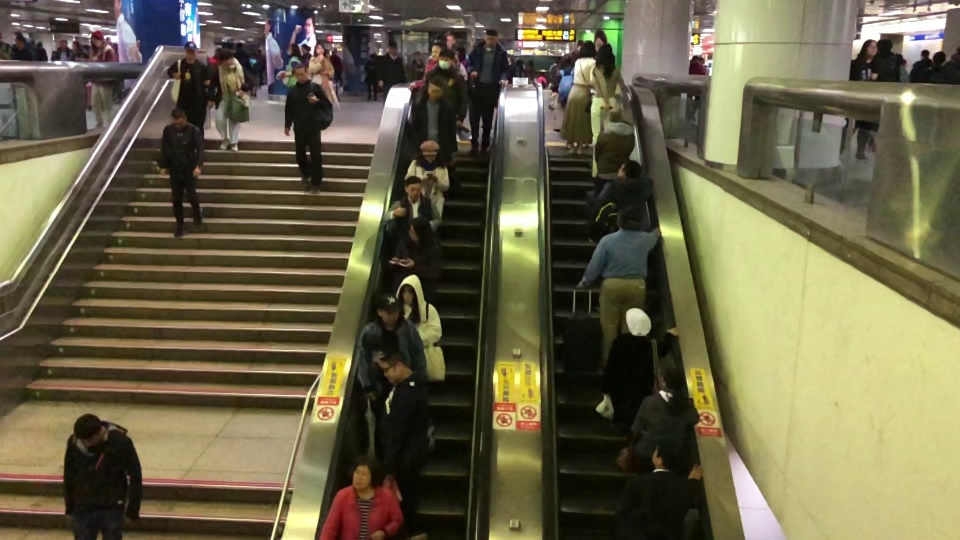person_head: (347, 454, 381, 488), (72, 413, 104, 447), (652, 437, 686, 468), (376, 351, 408, 382), (616, 204, 642, 229), (408, 216, 432, 242), (659, 367, 683, 391), (626, 314, 652, 336), (377, 304, 399, 324), (404, 176, 422, 200), (617, 160, 641, 178), (436, 48, 455, 68), (170, 108, 188, 127), (426, 78, 442, 99), (597, 43, 613, 62), (217, 48, 233, 65), (484, 27, 499, 45), (862, 38, 877, 56), (579, 40, 596, 55), (402, 283, 415, 302), (294, 65, 308, 81), (430, 41, 441, 61), (878, 38, 892, 53), (423, 144, 436, 159), (185, 44, 197, 60), (607, 110, 623, 122), (559, 54, 574, 66), (932, 51, 945, 63), (14, 37, 25, 49), (315, 43, 326, 54), (91, 35, 101, 47), (60, 39, 68, 49), (920, 49, 928, 58), (691, 54, 698, 61)
person_vbox: (576, 204, 661, 368), (63, 413, 142, 539), (601, 315, 678, 429), (617, 437, 704, 537), (318, 454, 403, 540), (355, 304, 428, 403), (631, 366, 700, 466), (375, 351, 428, 479), (156, 108, 206, 238), (284, 65, 332, 196), (466, 27, 509, 160), (589, 43, 626, 179), (838, 38, 878, 161), (208, 47, 254, 153), (590, 160, 651, 237), (401, 283, 447, 384), (167, 45, 215, 134), (559, 40, 595, 157), (390, 216, 443, 294), (411, 78, 460, 157), (593, 109, 634, 195), (404, 144, 450, 220), (424, 48, 467, 126), (384, 177, 442, 234), (87, 36, 118, 129), (551, 53, 574, 109), (688, 55, 706, 121), (308, 43, 335, 85), (877, 38, 901, 83), (909, 50, 930, 84), (925, 51, 946, 84), (13, 36, 32, 60), (55, 39, 72, 60)
